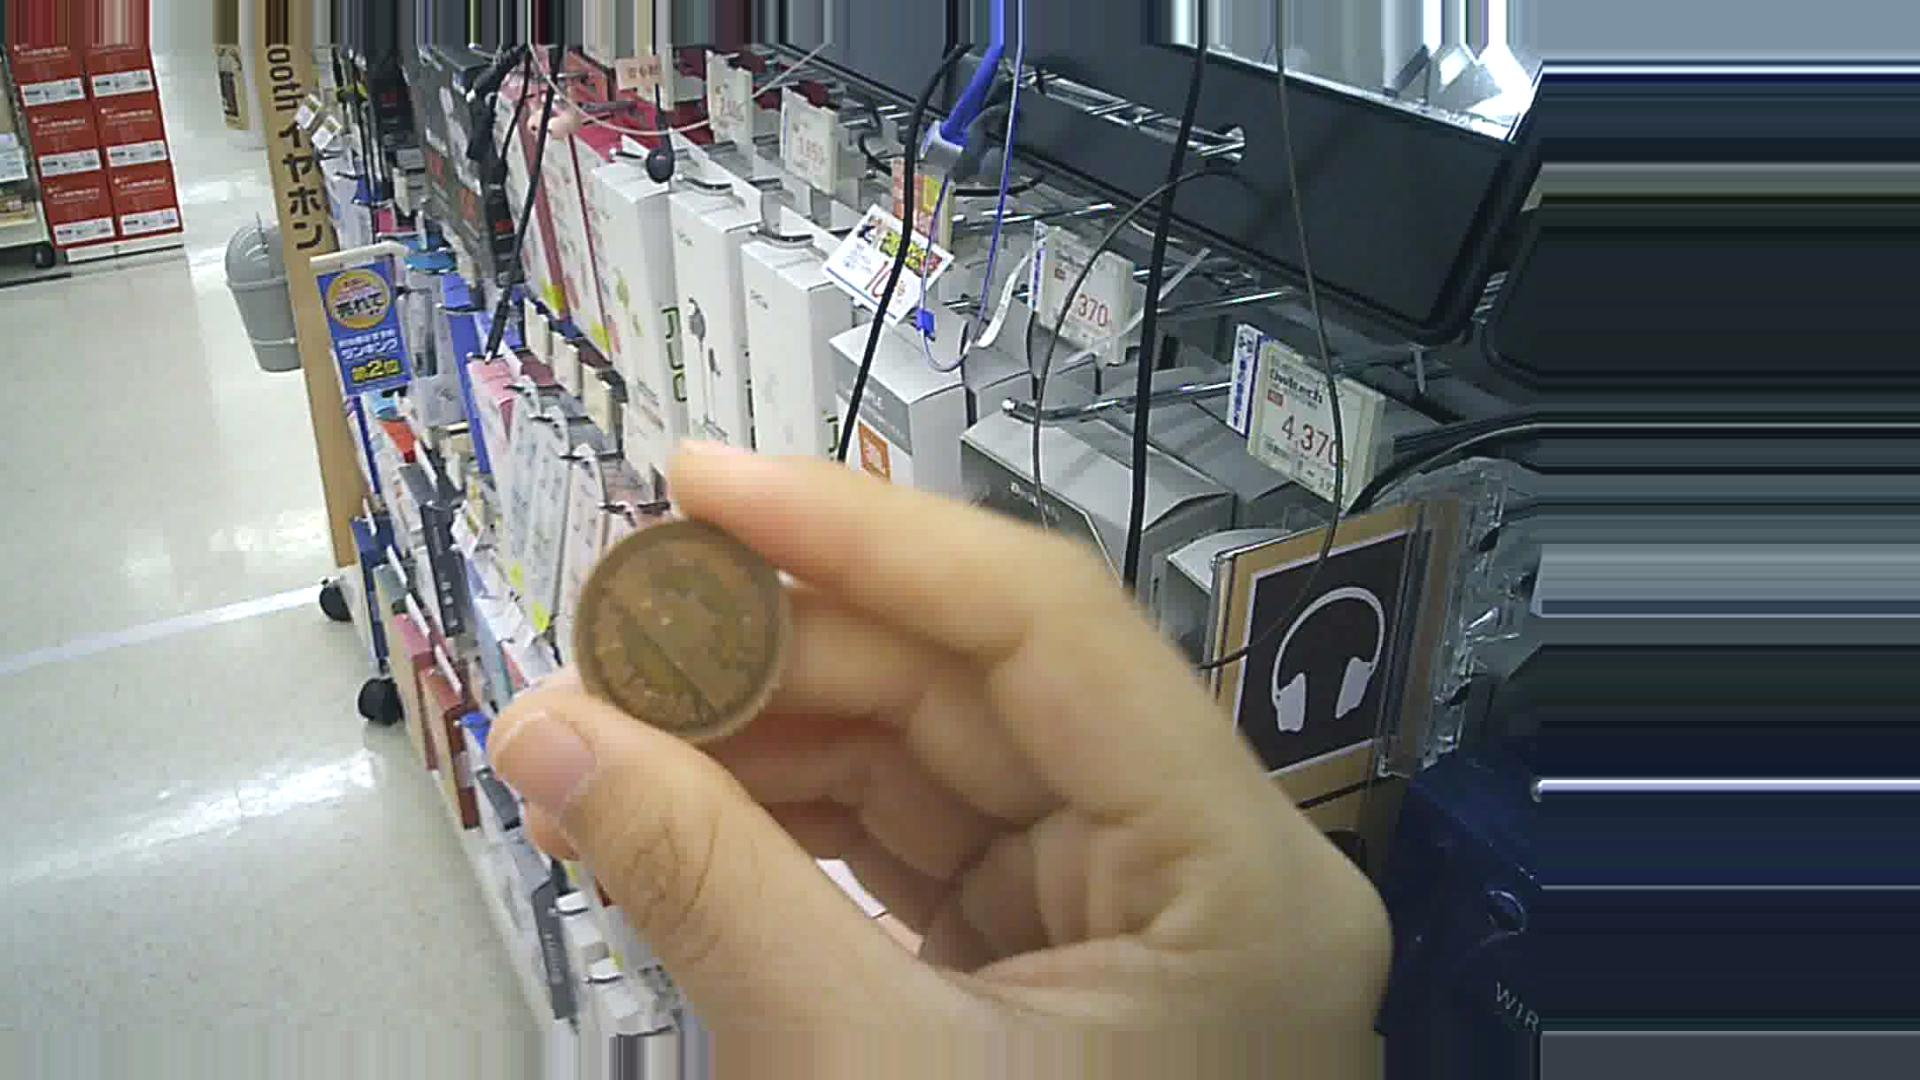10 Yen: (554, 513, 794, 754)
